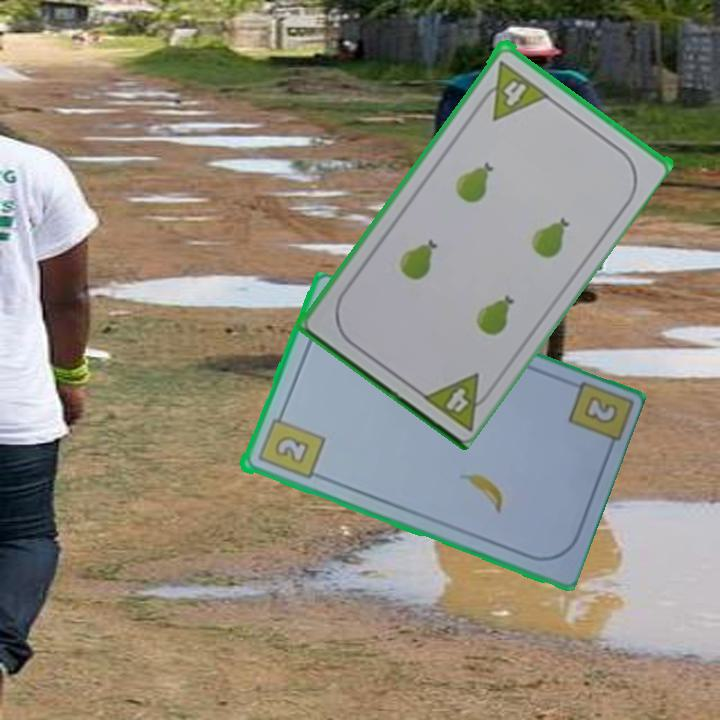2b: (253, 407, 327, 482), (583, 395, 618, 425)
4p: (417, 368, 499, 433), (473, 56, 551, 123)
